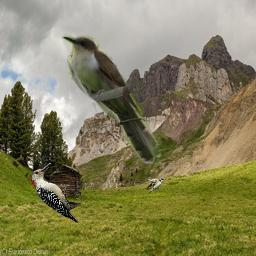Cuckoo: (61, 33, 162, 164)
Swallow: (144, 178, 164, 194)
Woodpecker: (30, 163, 82, 223)
